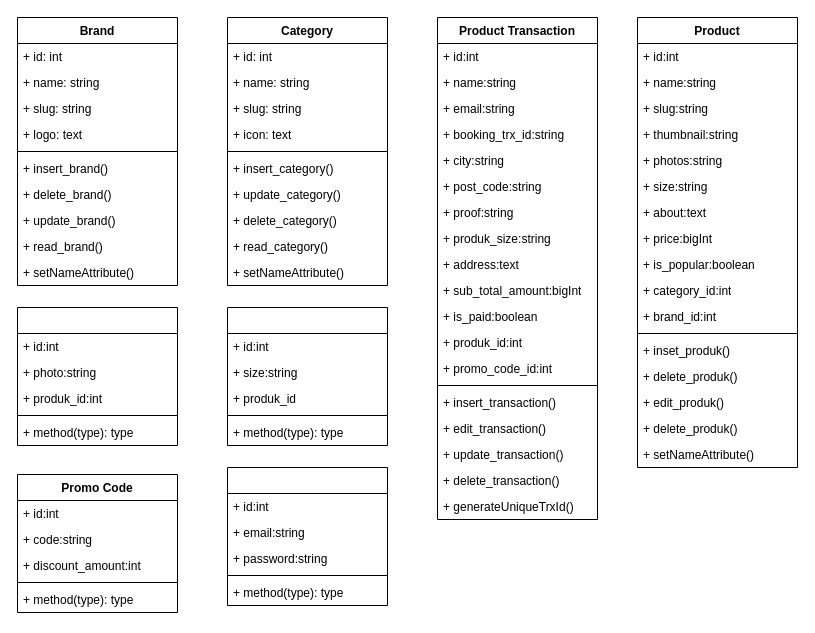
Some shapes in this 815 by 633 pixel diagram are drawn without their labels. The box of each missing label's shape, as (x1, y1, x2, y2) in pixels:
Product Photo: (16, 306, 178, 446)
Product Size: (226, 306, 388, 446)
User: (226, 466, 388, 606)
